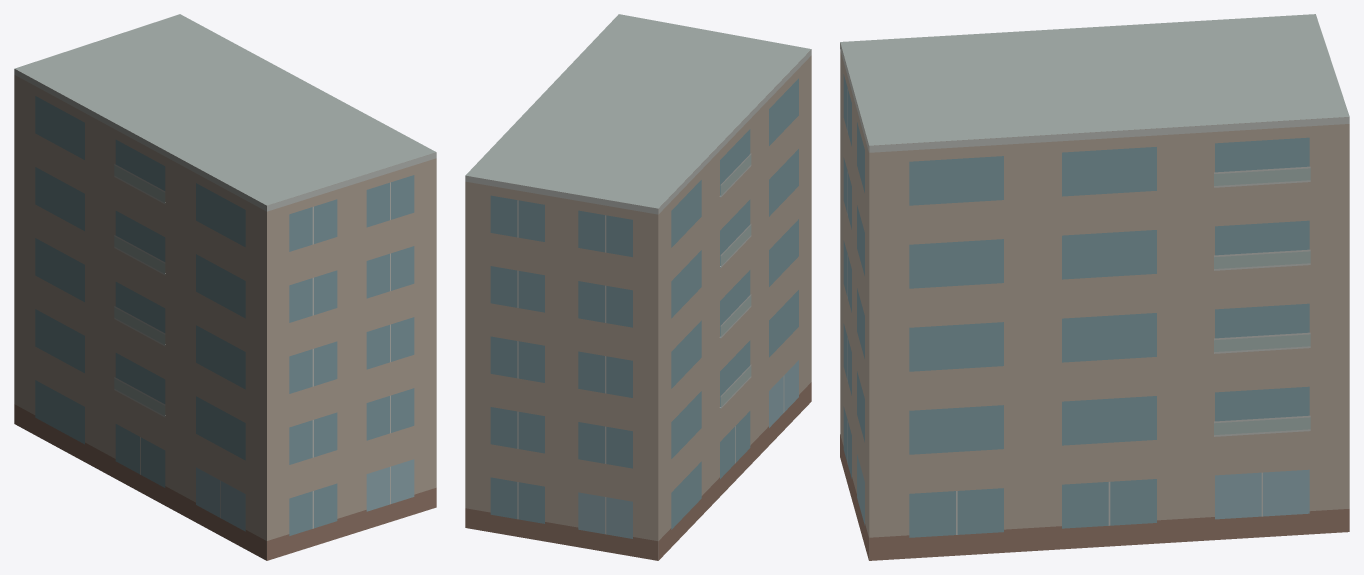
The model's file is survey-upis-32901877.glb.
The picture shows the model from 3 angles, left to right: view 1: azimuth 30°, elevation 25°; view 2: azimuth 150°, elevation 25°; view 3: azimuth 270°, elevation 25°; orthographic projection. The views are drawn at different scales.
Parts seen in each view (by area): view 1: survey-upis-32901877.tmp; view 2: survey-upis-32901877.tmp; view 3: survey-upis-32901877.tmp.
Part boxes in pixels (x1=…): survey-upis-32901877.tmp: x1=14, y1=14, x2=436, y2=560; survey-upis-32901877.tmp: x1=465, y1=14, x2=811, y2=560; survey-upis-32901877.tmp: x1=840, y1=14, x2=1349, y2=560.
Bounding box in the file's own units: 9.74 × 14.3 × 15.92.
